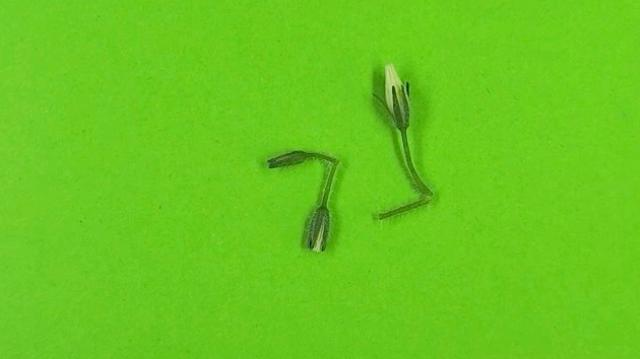Flower Bud: (381, 63, 410, 130), (306, 208, 330, 252), (267, 151, 312, 169)
